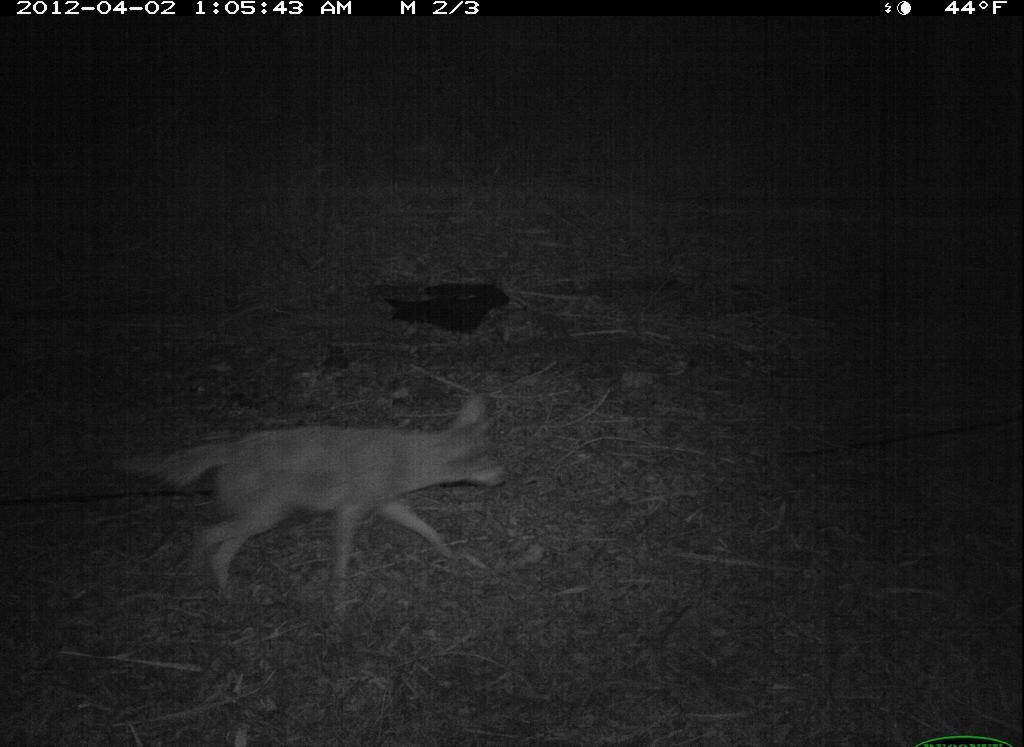coyote: (127, 383, 533, 616)
